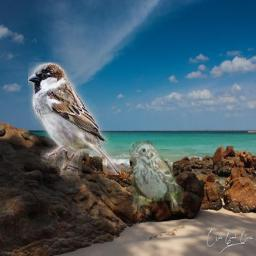Sparrow: (28, 62, 121, 175), (129, 140, 184, 211)
